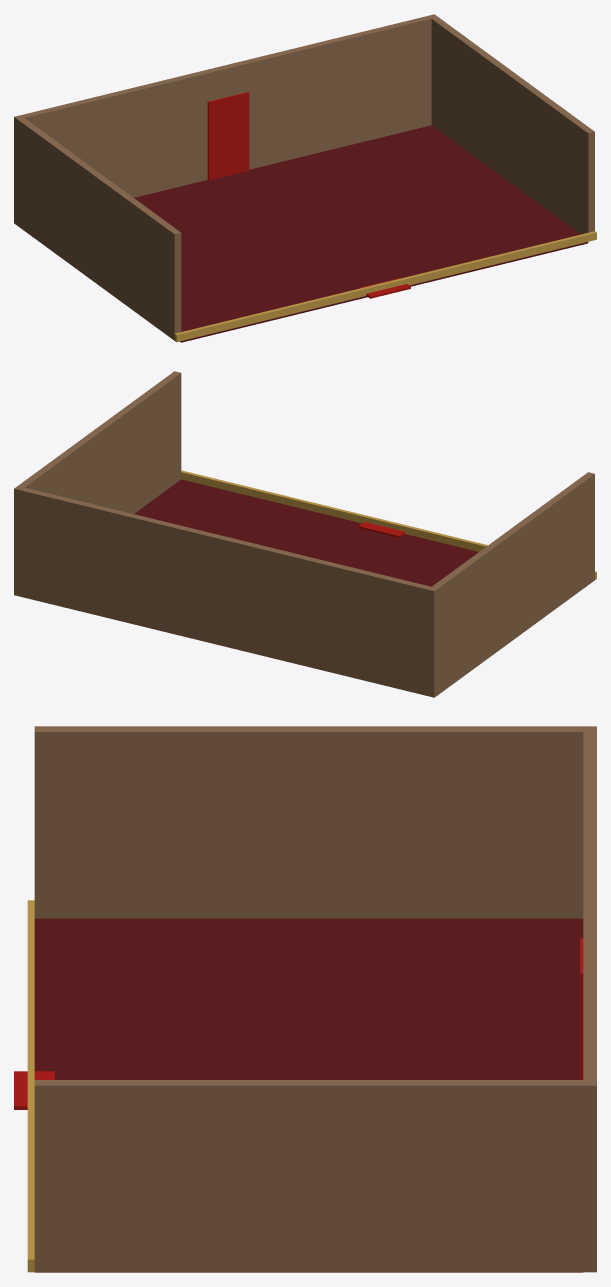
The model's file is auditorium.obj.
3 views of the same model, one above another, from view 1: azimuth 30°, elevation 25°; view 2: azimuth 150°, elevation 25°; view 3: azimuth 270°, elevation 25° (orthographic). The views are drawn at different scales.
Size of the model in its own units: 12.4 by 3.1 by 8.5.
